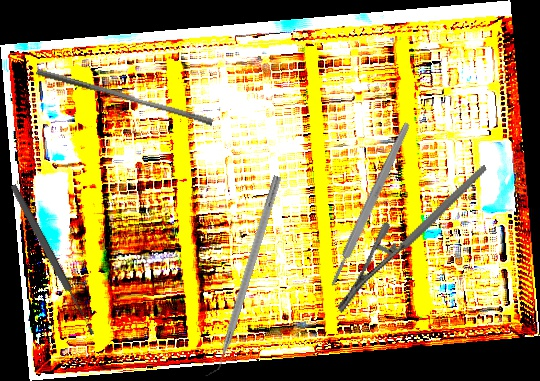Chopper: (200, 171, 282, 381)
Needle Holder: (309, 164, 516, 314)
Pusher: (34, 68, 215, 126)
Scalpel Handle: (327, 120, 413, 288)
Surgical Spoon: (8, 183, 97, 337)
